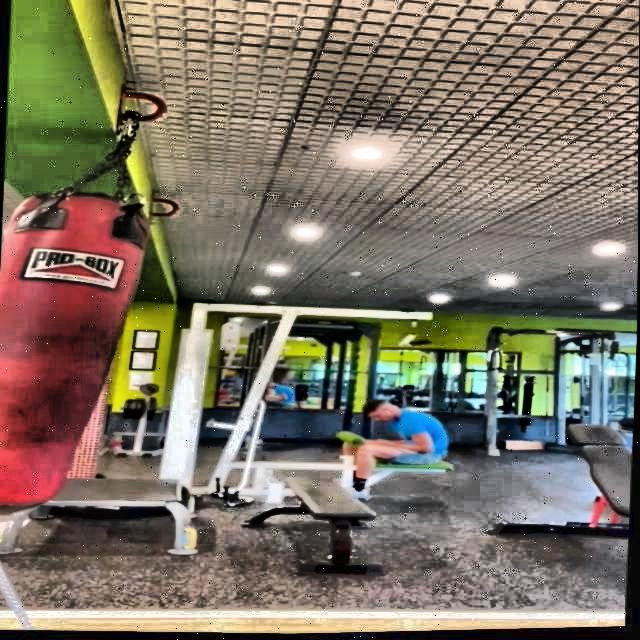boxing-bag: (0, 72, 149, 523)
